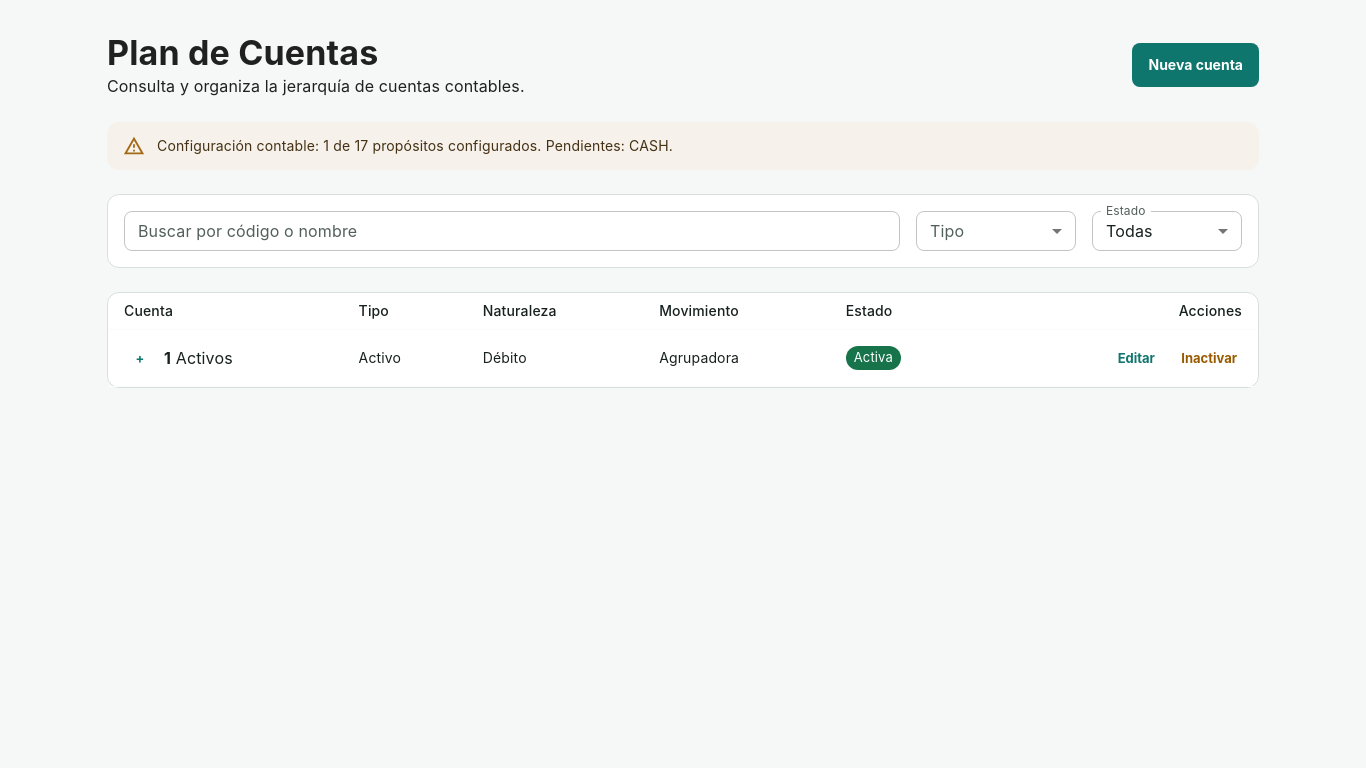
Test: Configuración contable › ofrece como padre únicamente cuentas agrupadoras activas del mismo tipo
expect the button named "Expandir 1" is shown: met, box x1=124 y1=336 x2=156 y2=380
Step 1. Click the button "Nueva cuenta" → (1196, 65), box x1=1132 y1=43 x2=1259 y2=87
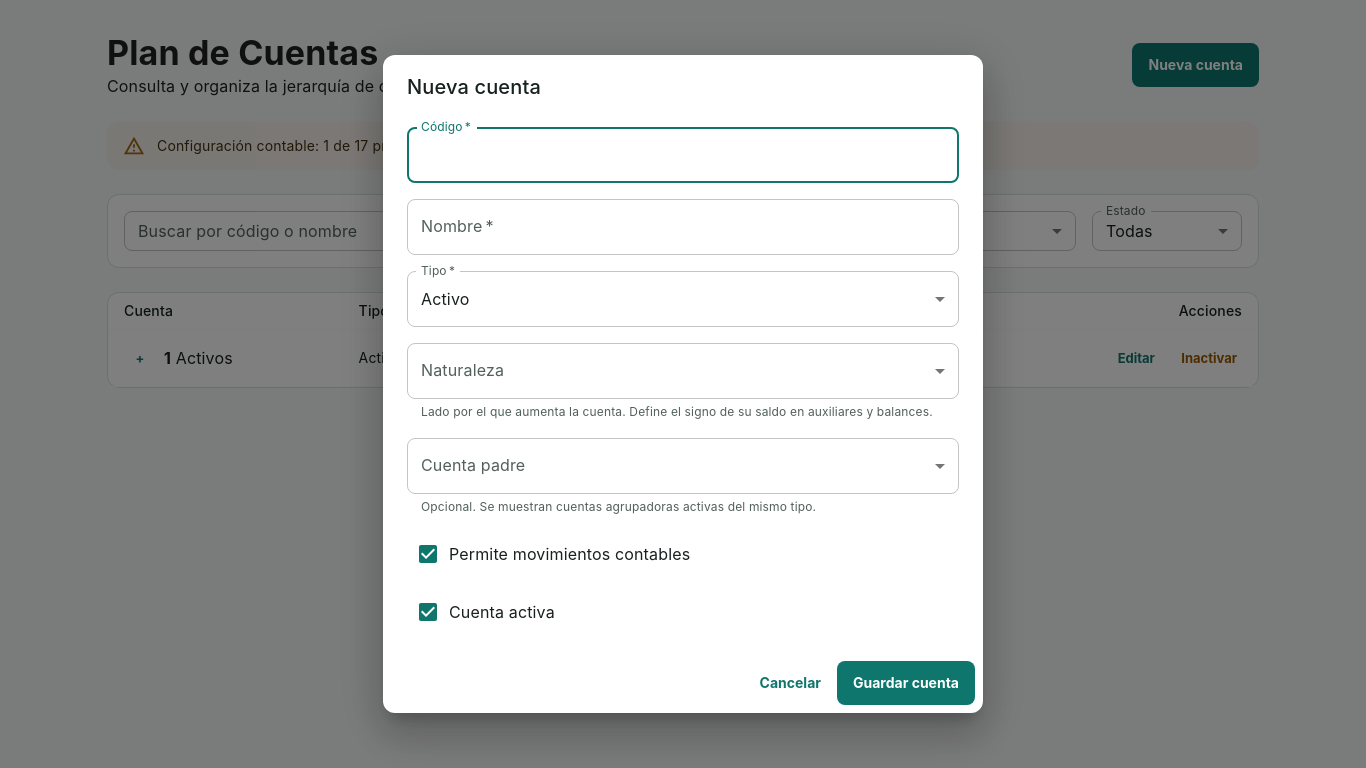
Step 2. Press the mouse on the dropdown named "Cuenta padre" next to "Cuenta padre" → (683, 466), box x1=407 y1=438 x2=959 y2=494
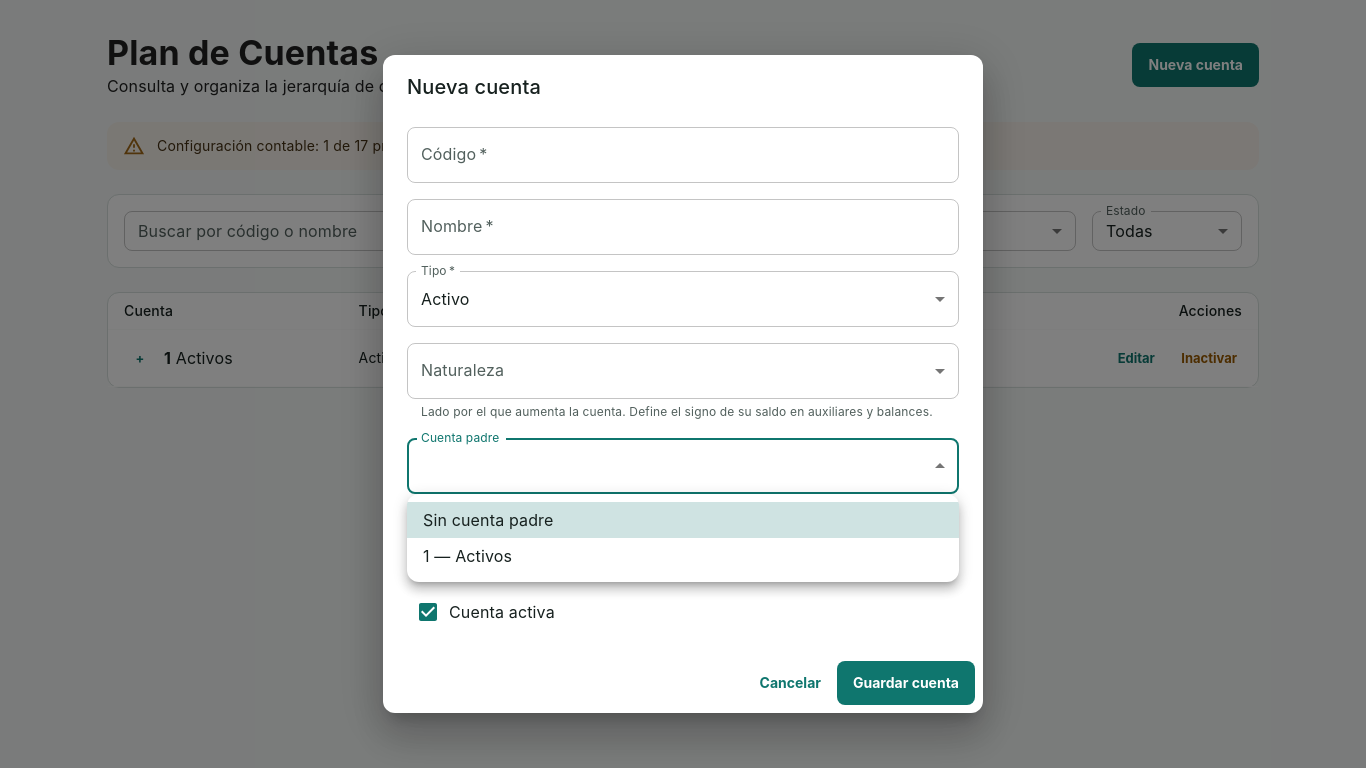
expect the option "1 — Activos" is shown: met, box x1=423 y1=546 x2=512 y2=566
